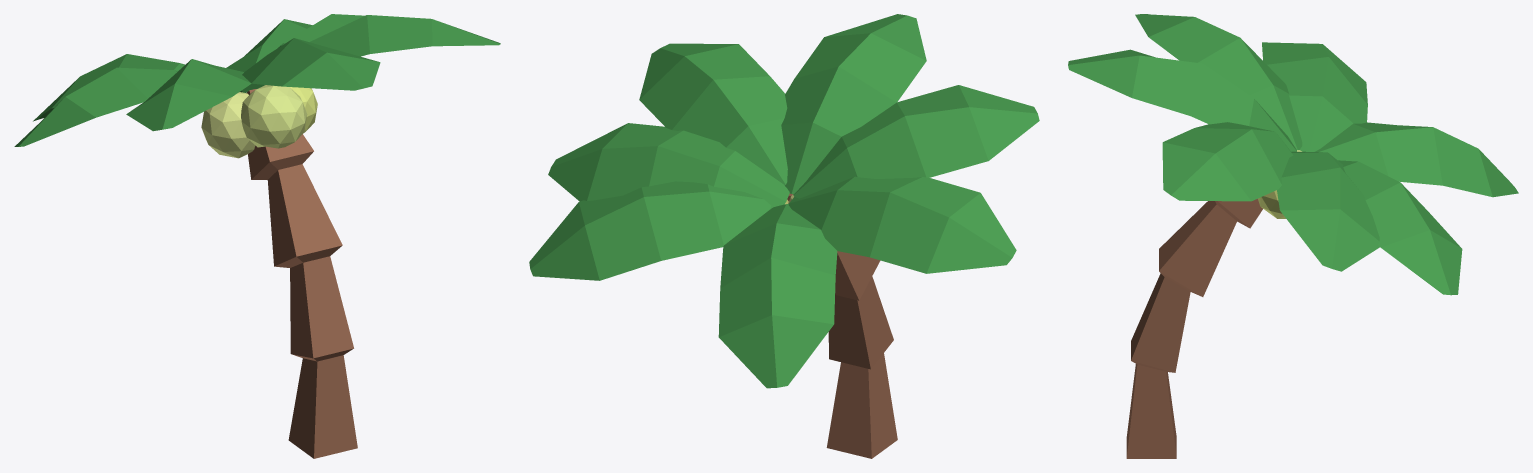
File: coqueiro.fbx
3 renders of one model, left to right at view 1: azimuth 30°, elevation 25°; view 2: azimuth 150°, elevation 25°; view 3: azimuth 270°, elevation 25°, orthographic. The views are drawn at different scales.
Parts seen in each view (by area): view 1: Plane, Cube, Icosphere.002, Icosphere, Icosphere.001; view 2: Plane, Cube; view 3: Plane, Cube.
Boxes of the visible parts, bbox=[...] form: Plane: bbox=[14, 14, 500, 146]; Cube: bbox=[246, 89, 357, 458]; Icosphere.002: bbox=[241, 85, 307, 148]; Icosphere: bbox=[201, 92, 255, 158]; Icosphere.001: bbox=[290, 87, 317, 132]; Plane: bbox=[529, 14, 1039, 388]; Cube: bbox=[787, 193, 897, 458]; Plane: bbox=[1068, 14, 1518, 295]; Cube: bbox=[1126, 199, 1262, 458].
Size of the model in its own units: 1468 by 1270 by 1325.
